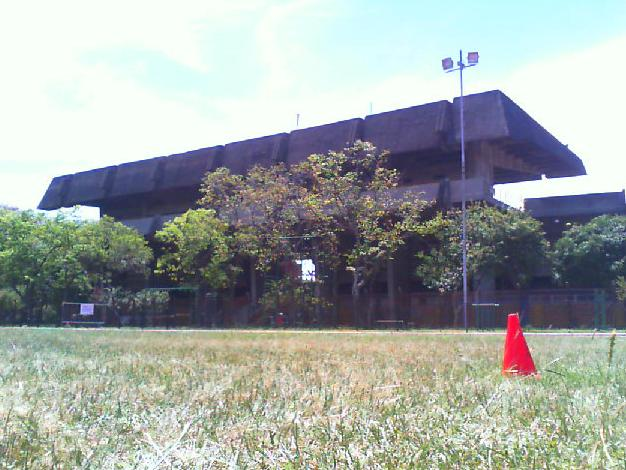0 cone: (502, 313, 538, 375)
